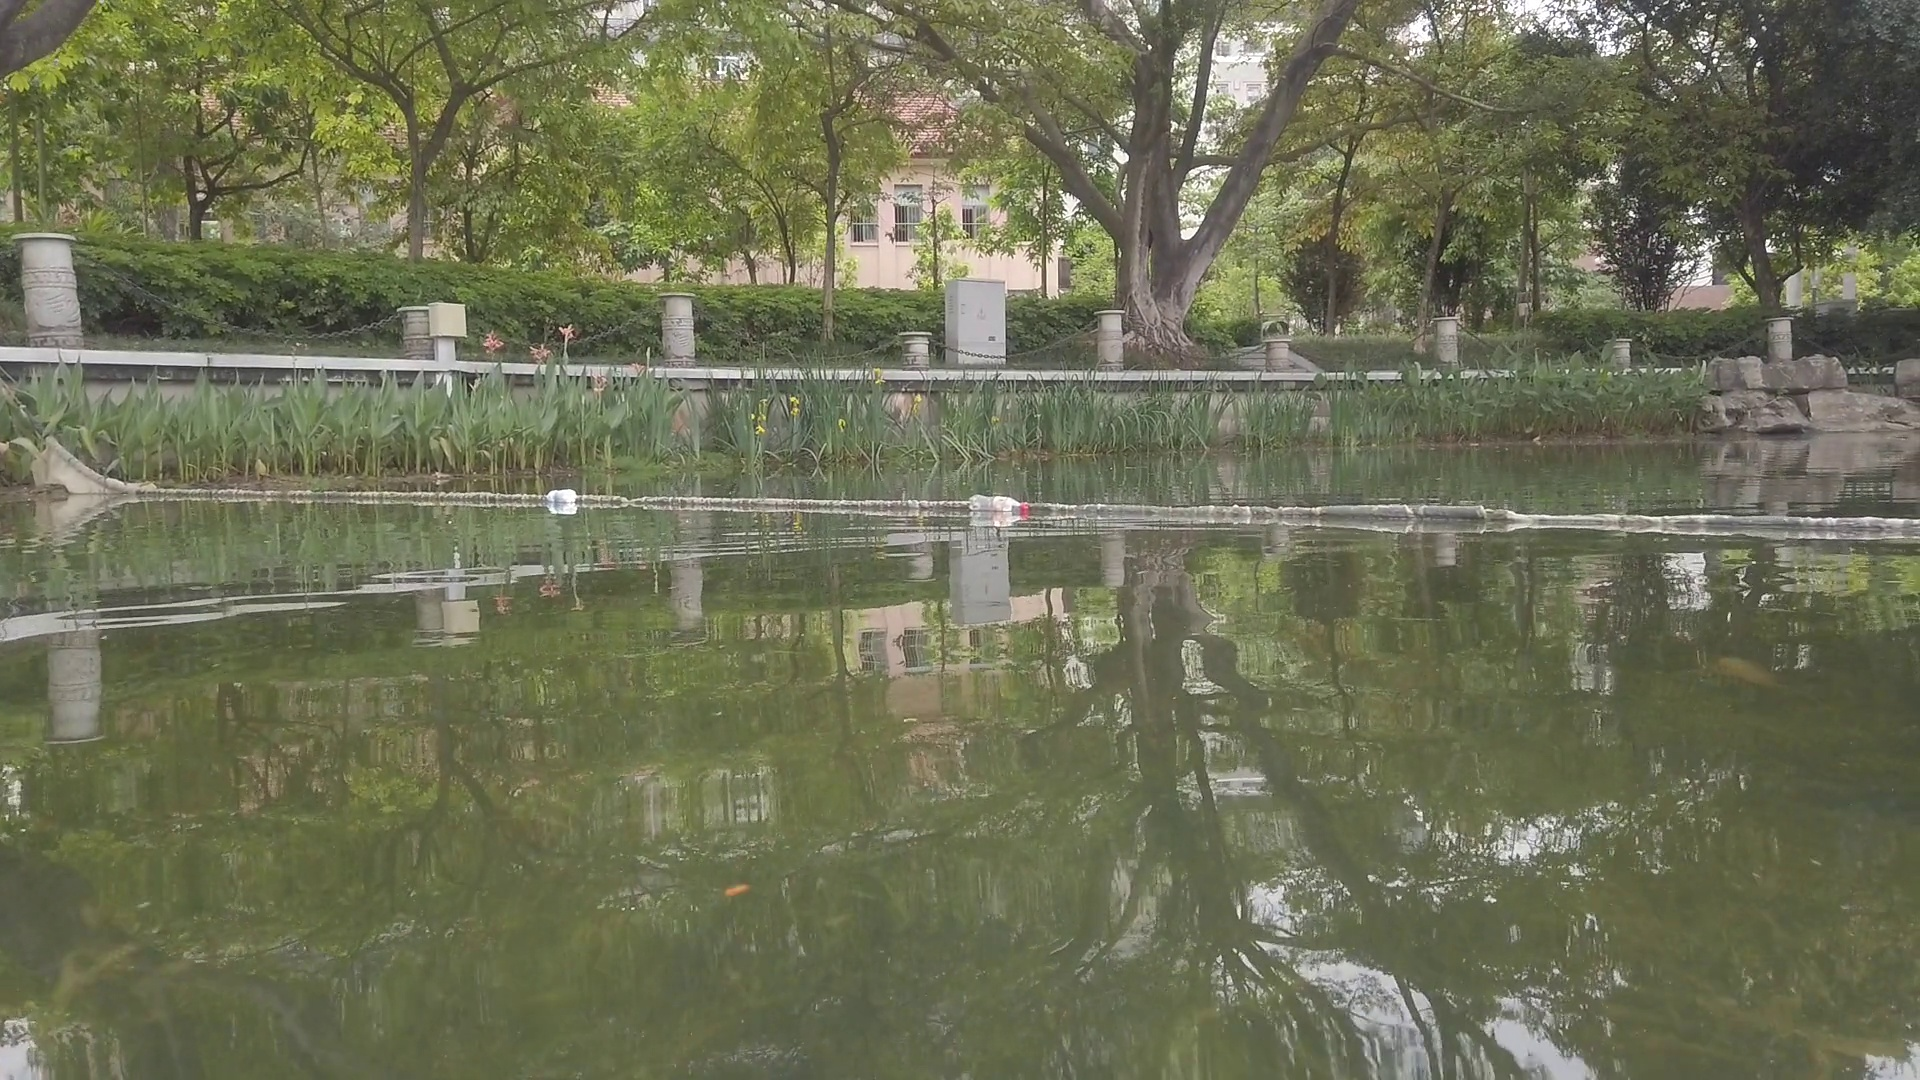bottle: (972, 493, 1029, 517), (545, 489, 579, 502)
